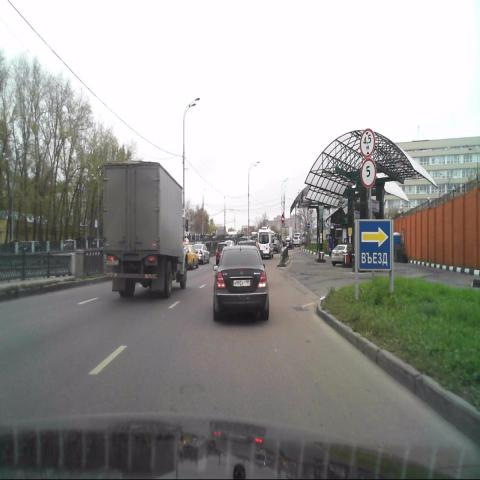3_13: (360, 128, 376, 158)
